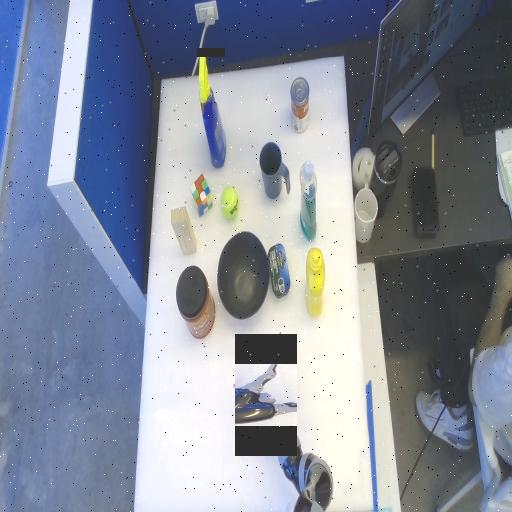bowl: (218, 232, 268, 318)
cleanser: (300, 162, 316, 241)
coffee_can: (176, 267, 214, 338)
jaco: (235, 364, 297, 425)
meat_can: (267, 244, 289, 298)
mug: (258, 156, 289, 186)
mustard_bottle: (305, 249, 324, 317)
rubik: (190, 174, 212, 217)
soup_can: (290, 78, 308, 133)
tennis_ball: (221, 195, 238, 212)
windex: (197, 99, 225, 121)
wooden_block: (171, 208, 195, 254)
workspace: (135, 57, 372, 509)
